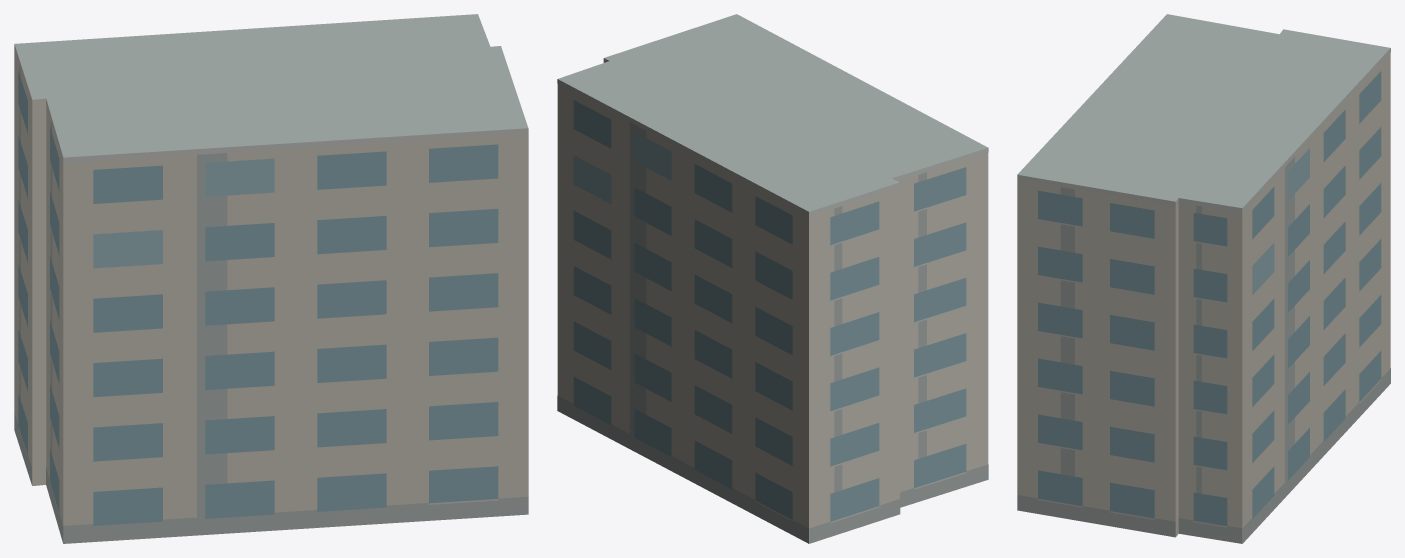
The model's file is survey-upis-32905601.glb.
3 renders of one model, left to right at view 1: azimuth 30°, elevation 25°; view 2: azimuth 150°, elevation 25°; view 3: azimuth 270°, elevation 25°, orthographic. The views are drawn at different scales.
Visible parts, largest first — view 1: survey-upis-32905601.tmp; view 2: survey-upis-32905601.tmp; view 3: survey-upis-32905601.tmp.
Boxes of the visible parts, box(x1,y1,x2,y2) form: survey-upis-32905601.tmp: box(14, 14, 528, 543); survey-upis-32905601.tmp: box(557, 14, 988, 543); survey-upis-32905601.tmp: box(1017, 14, 1390, 543).
Bounding box in the file's own units: 20.73 × 16.7 × 16.85.
